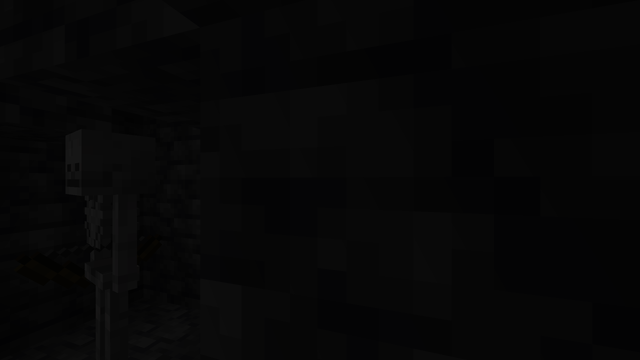squelettes: (46, 129, 167, 359)
